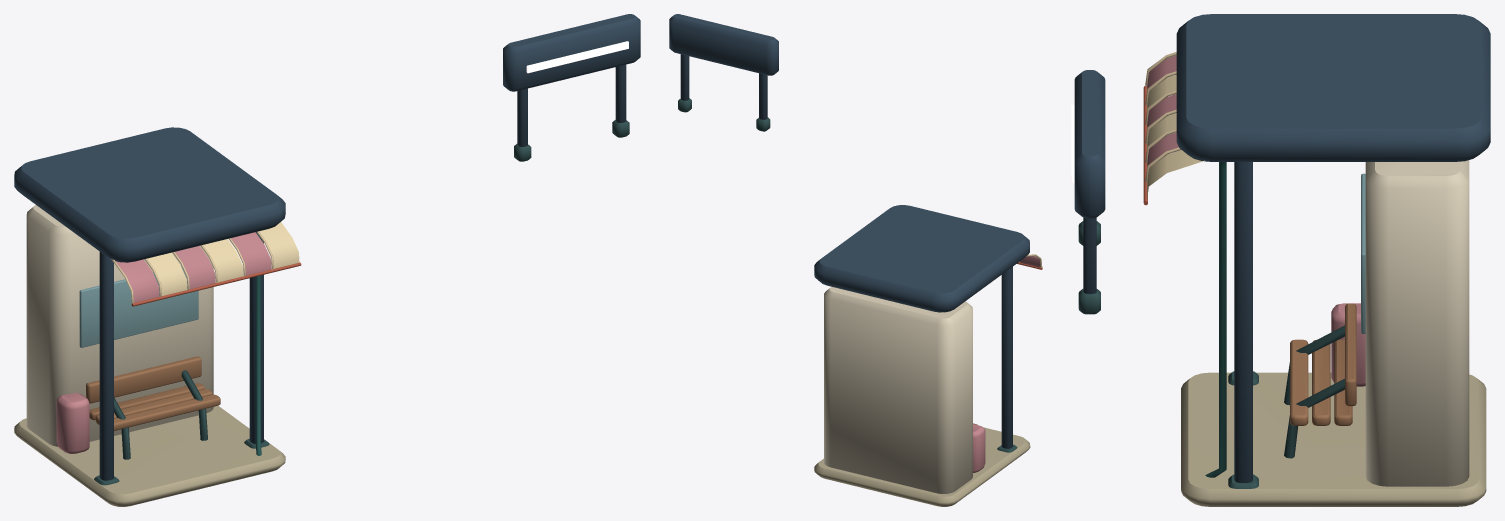
Rendered from luxury_vip_park_4.glb.
The picture shows the model from 3 angles, left to right: view 1: azimuth 30°, elevation 25°; view 2: azimuth 150°, elevation 25°; view 3: azimuth 270°, elevation 25°; orthographic projection. The views are drawn at different scales.
Visible parts, largest first — view 1: LuxuryVipPark4; view 2: LuxuryVipPark4; view 3: LuxuryVipPark4.
Part boxes in pixels (x1=…): LuxuryVipPark4: x1=14, y1=14, x2=640, y2=506; LuxuryVipPark4: x1=669, y1=14, x2=1042, y2=506; LuxuryVipPark4: x1=1071, y1=14, x2=1490, y2=506.
Size of the model in its own units: 6.5 by 5.07 by 3.41.
